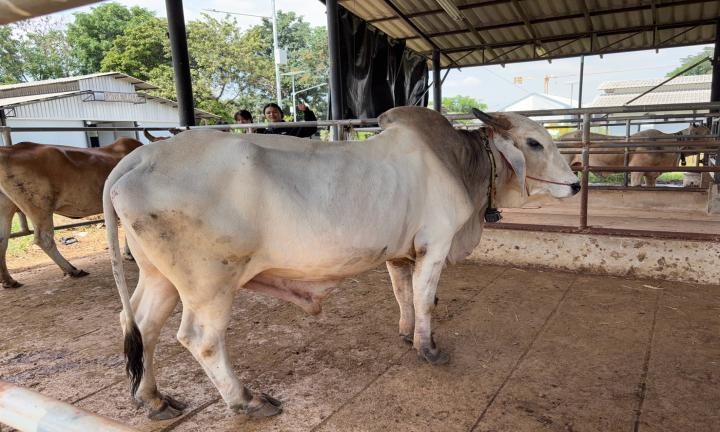Brahman: (104, 106, 580, 418)
